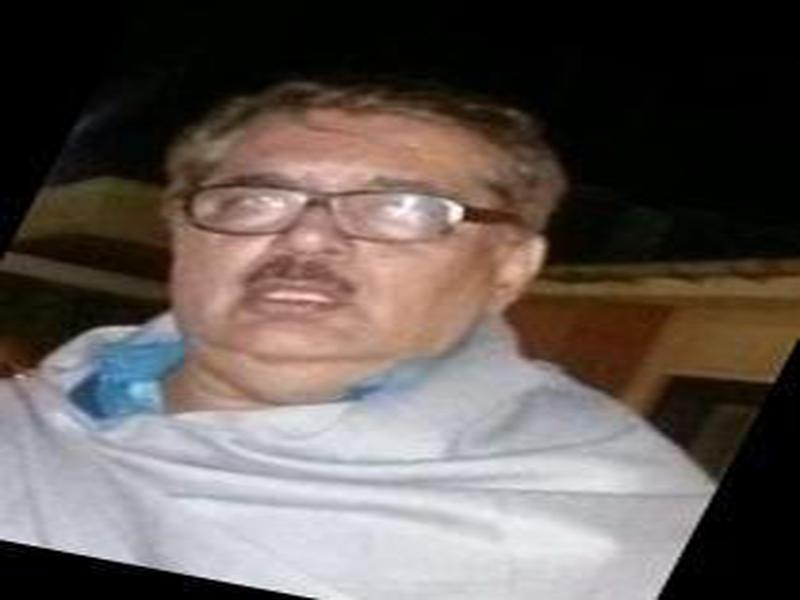without_mask: (170, 118, 491, 372)
